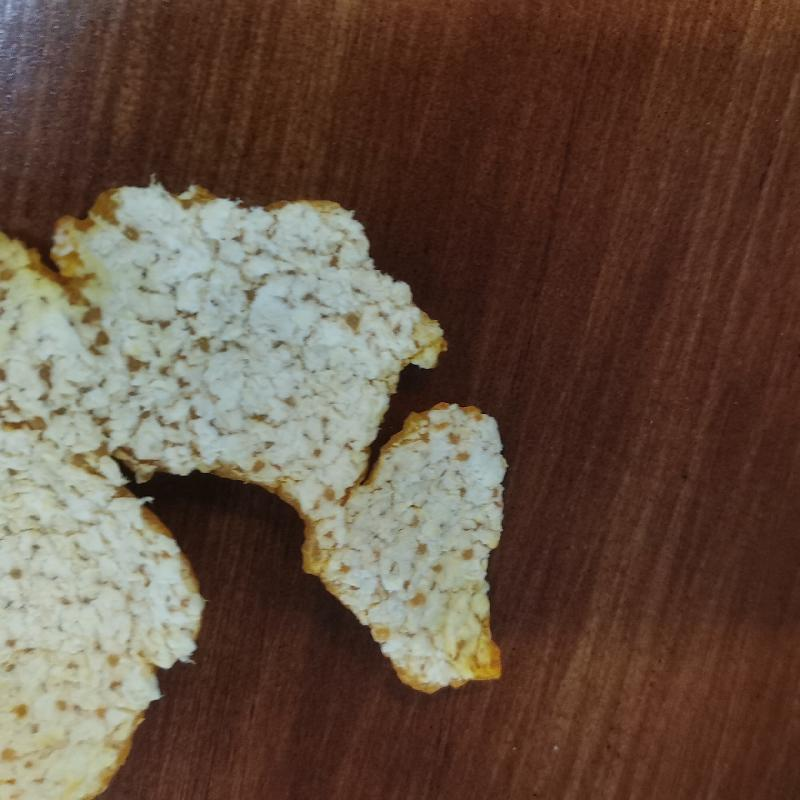orange: (1, 173, 509, 800)
